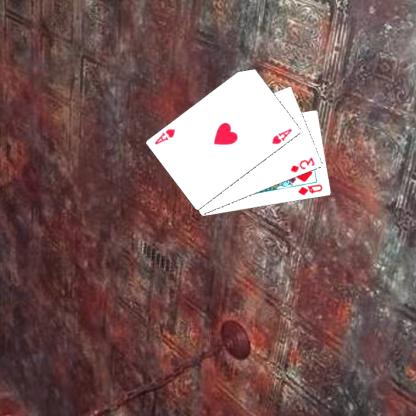3D: (290, 155, 318, 173)
AH: (271, 126, 295, 146), (154, 126, 178, 146)
QD: (298, 182, 326, 197)
